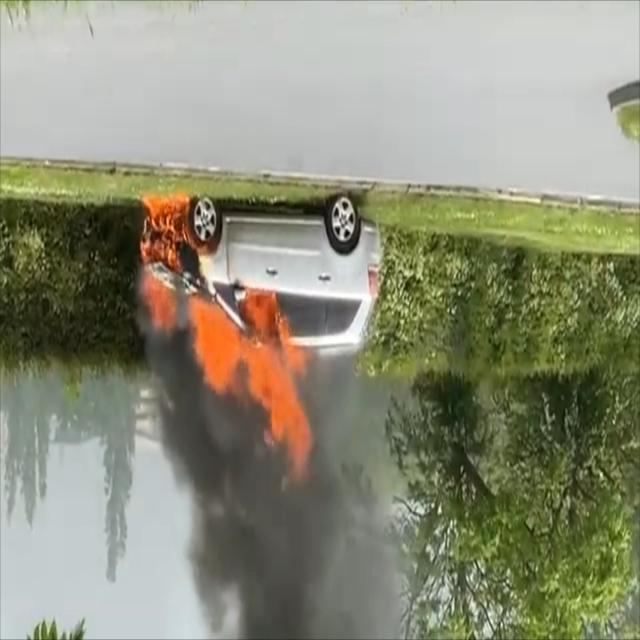fire: (139, 179, 314, 521)
